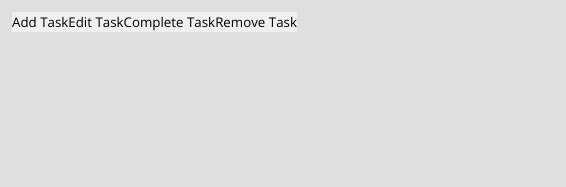
Context: Task Provider › should change a task complete state, given the correct Id.
The image size is (566, 187).
Expected: the button "Complete Task" is shown, [124,12,215,32]
Click the button "Add Task": (40, 22) [12,12,68,32]
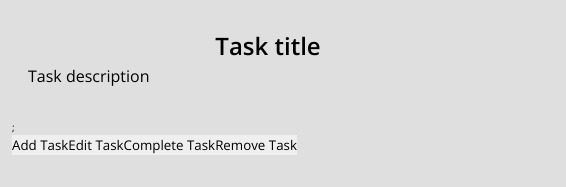
Expected: the text "complete state" is not shown
Result: the number of headings "Task title" is 1 at [215,28,321,64]
Click the button "Complete Task": (169, 145) [124,135,215,155]
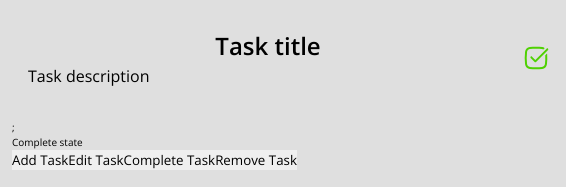
Result: the text "Complete state" is shown at [12,135,83,149]
Click the button "Complete Task": (169, 160) [124,150,215,170]
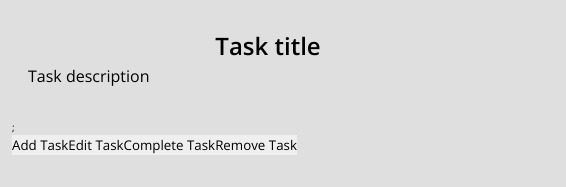
Result: the text "Complete state" is gone
